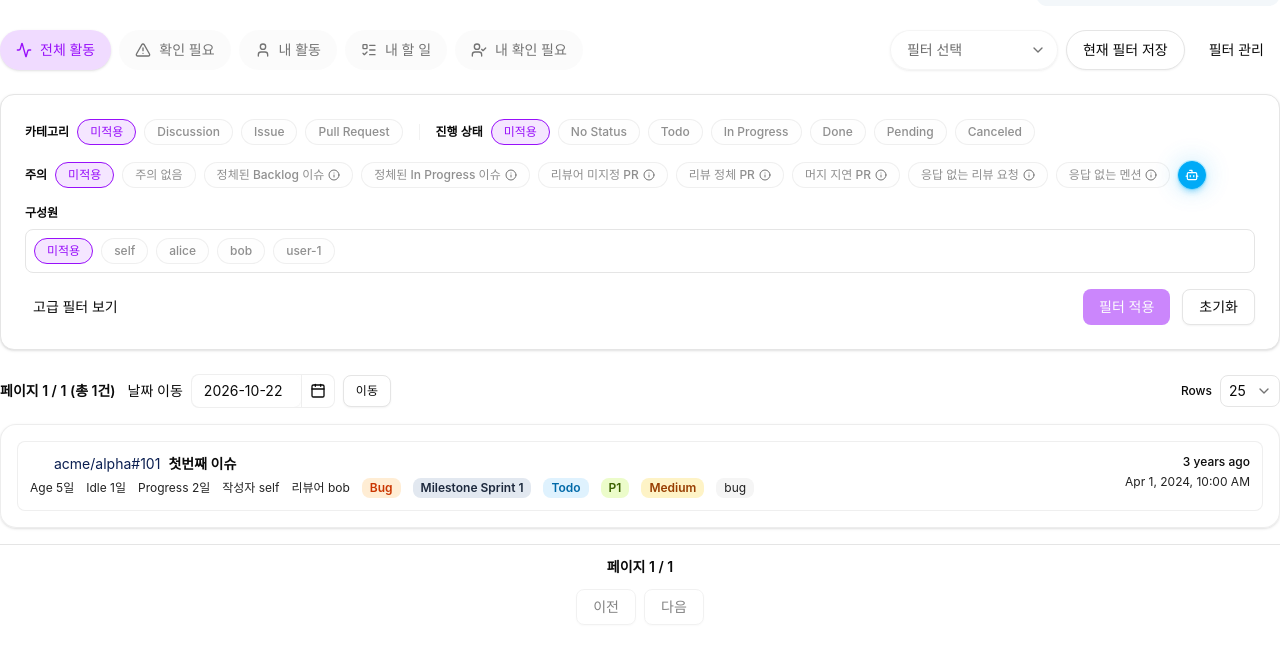
Test: ActivityView › applies assignee-only filtering without attention
Click the button "고급 필터 보기": (75, 307) [25,291,126,323]
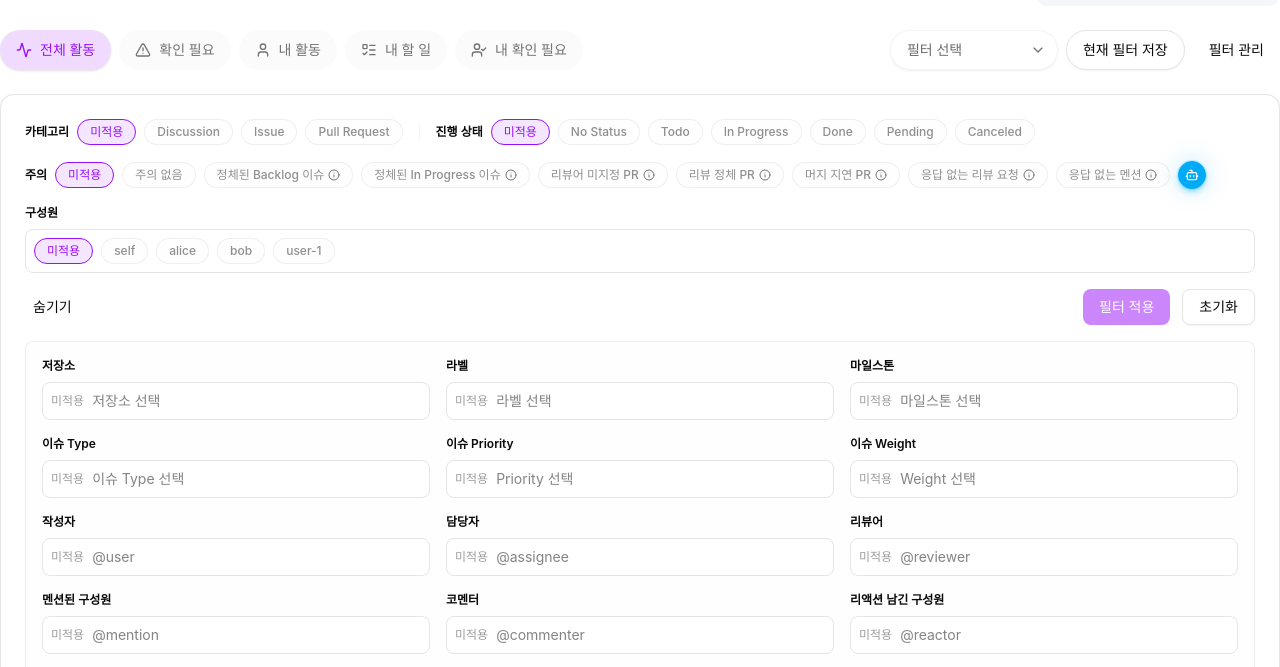
In the field with placeholder "@assignee": (659, 557) [492,543,825,571], type "alice"
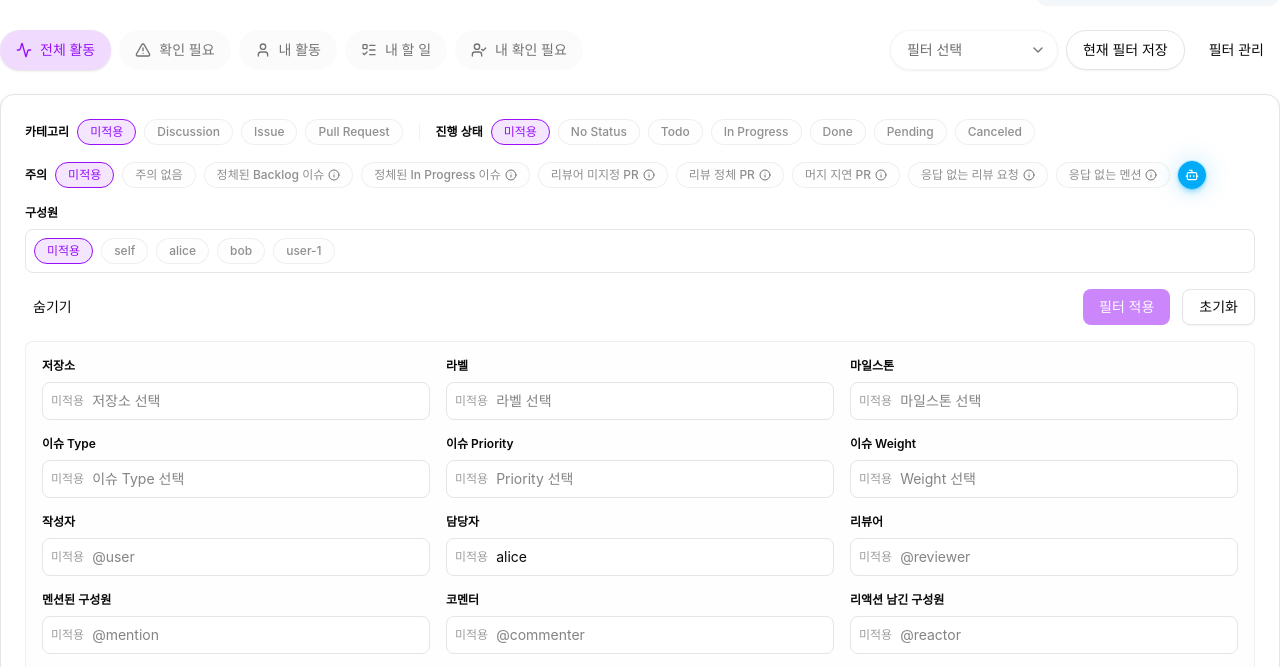
Press Enter in the field with placeholder "@assignee", box [492,543,825,571]
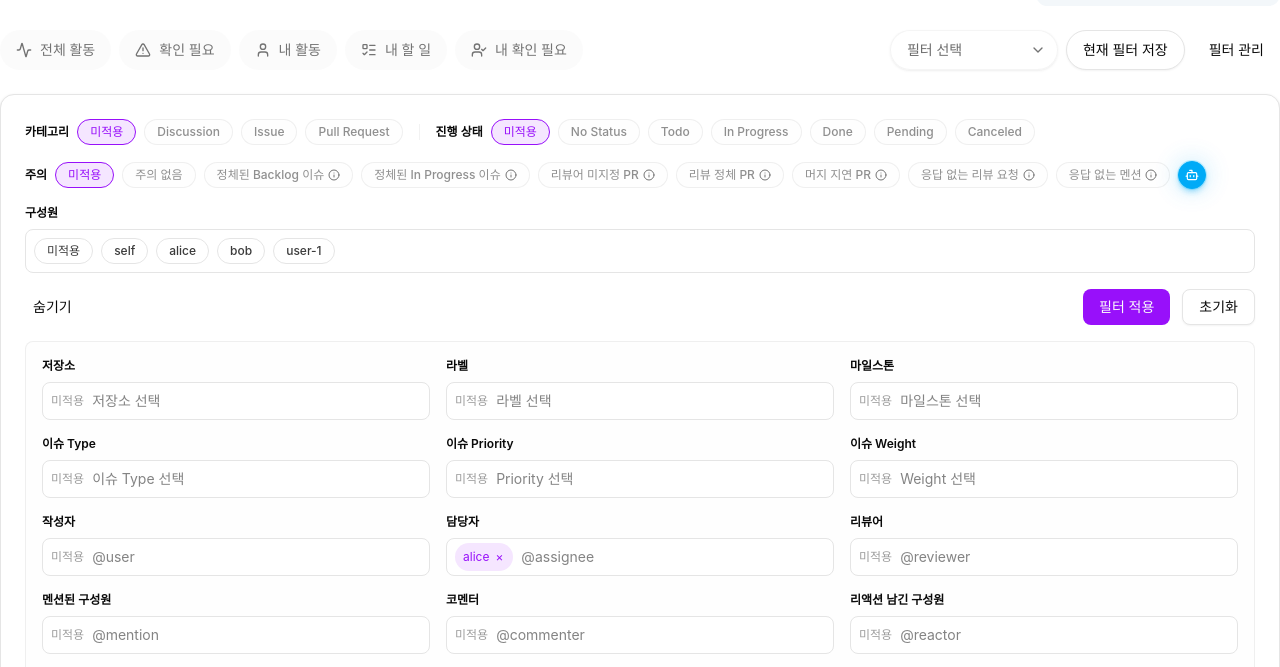
Result: the button named "Remove alice" is shown at [493,547,505,567]
Click the button "필터 적용": (1127, 307) [1083,289,1170,325]
(page scrolled)
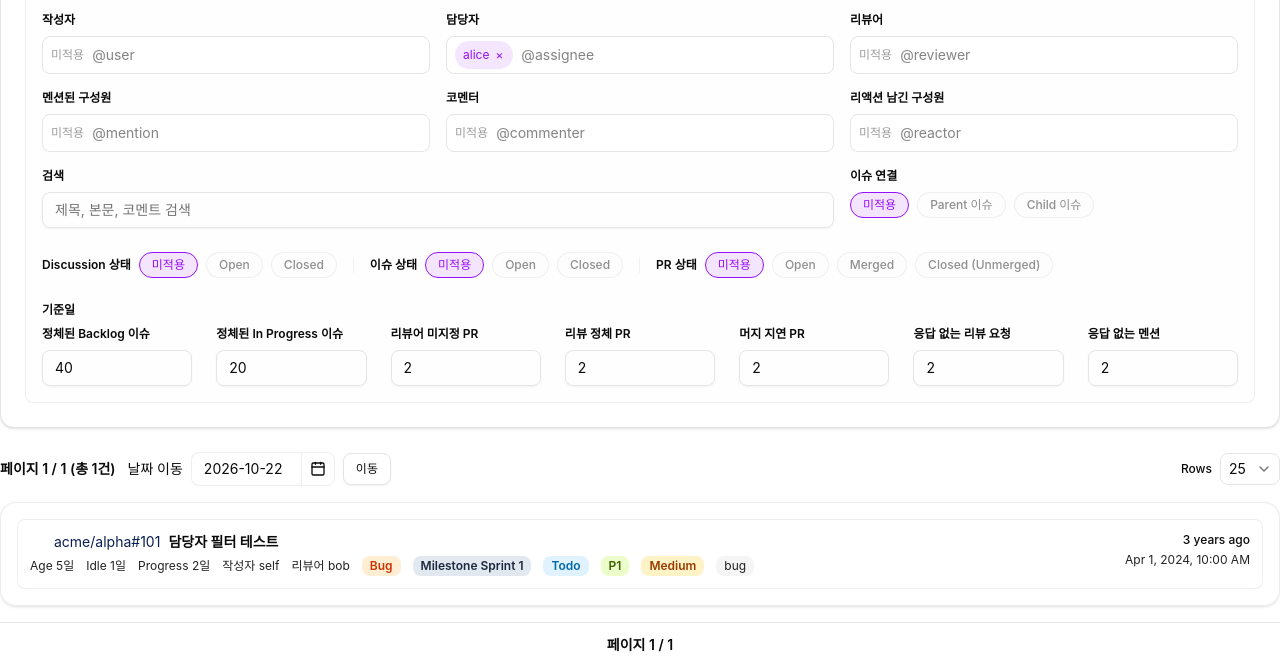
Result: the text "담당자 필터 테스트" is shown at [168,533,278,550]
